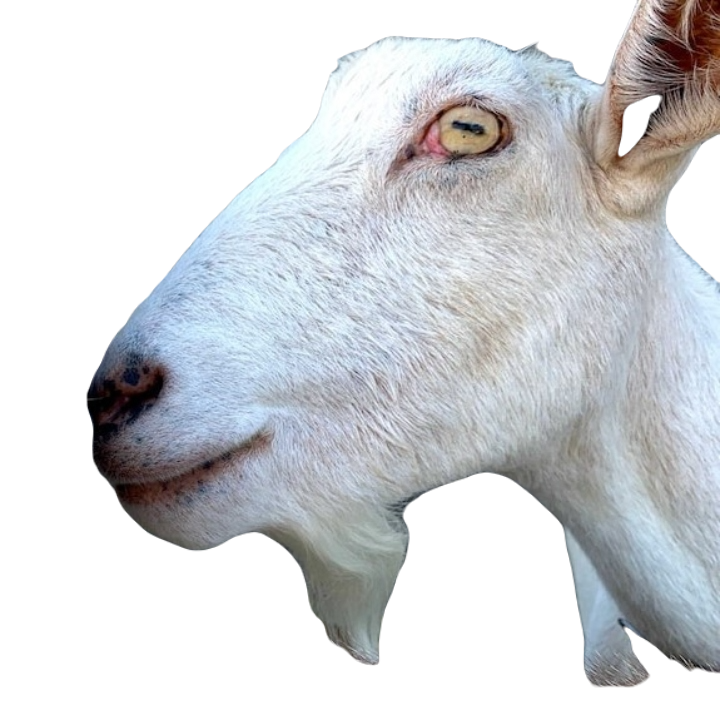Goat: (83, 0, 719, 688)
